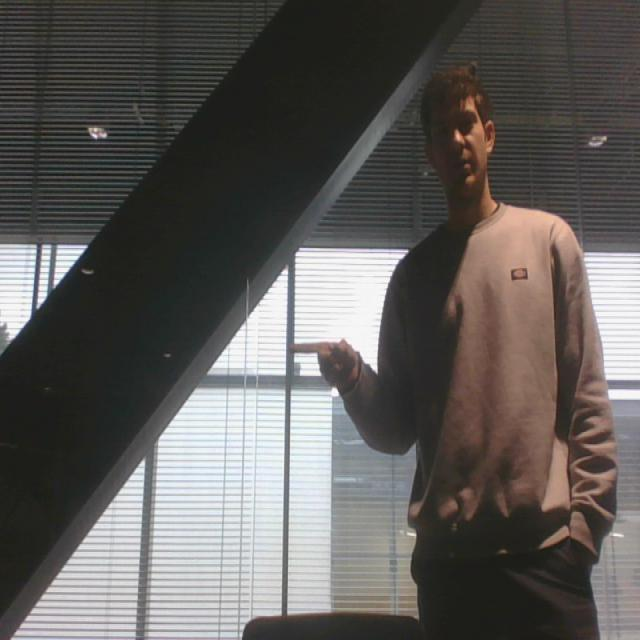left: (288, 336, 364, 398)
